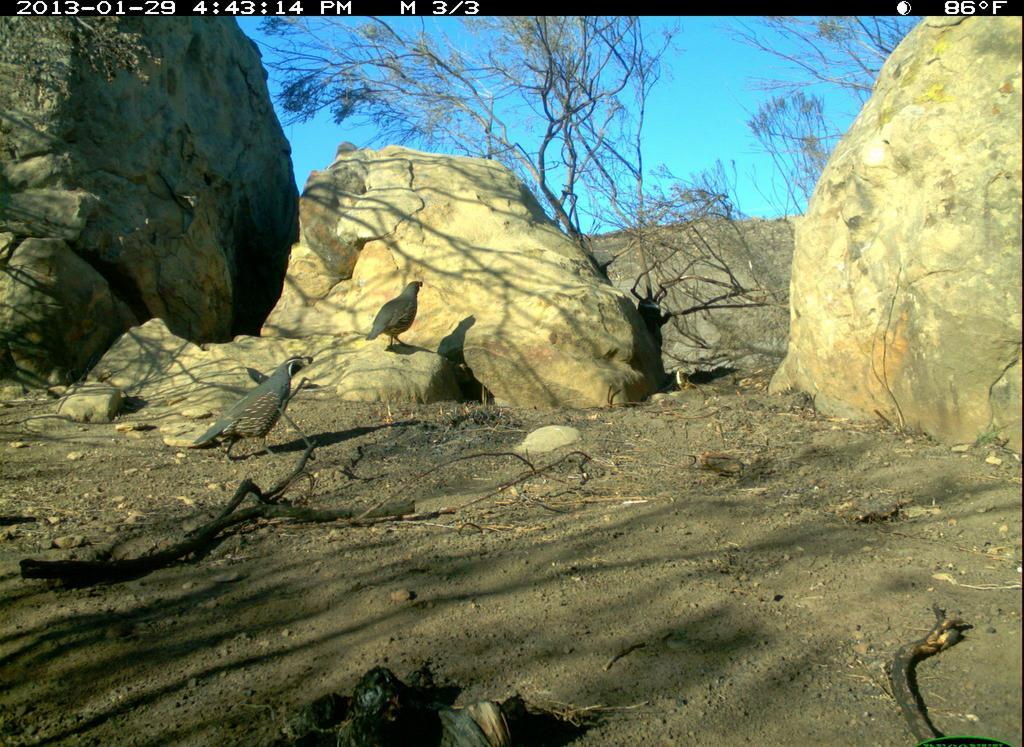bird: (187, 355, 332, 457), (361, 268, 442, 358)
